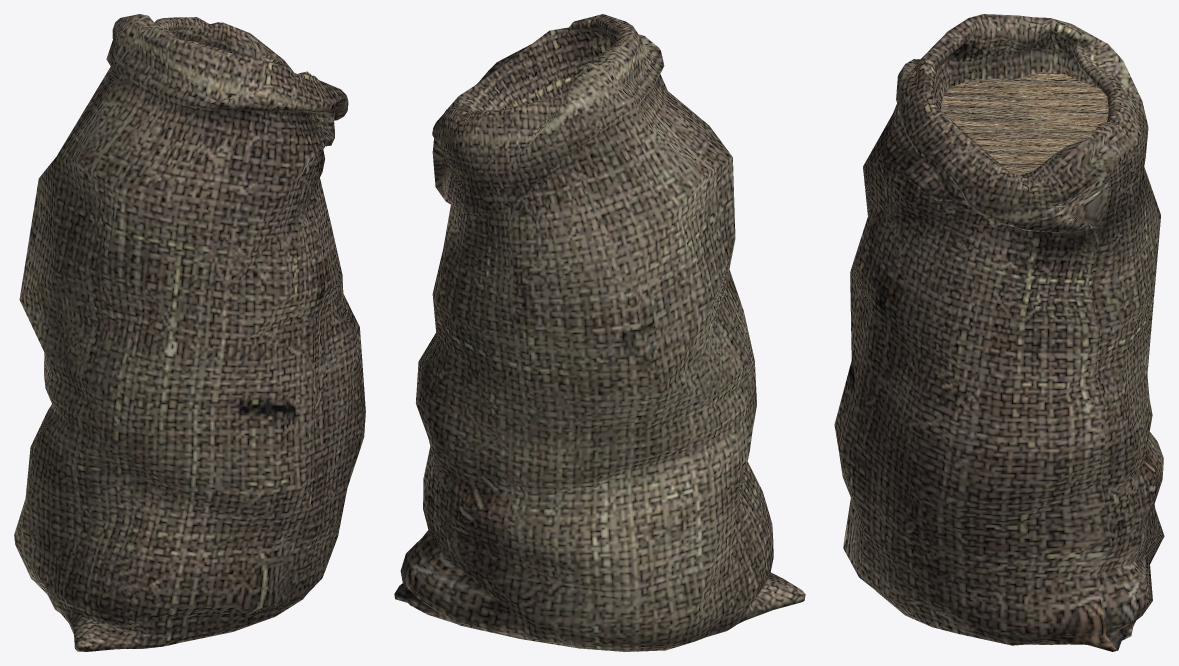
Rendered from Bag1.fbx.
3 views of the same model, side by side, from view 1: azimuth 30°, elevation 25°; view 2: azimuth 150°, elevation 25°; view 3: azimuth 270°, elevation 25° (orthographic).
Visible parts, largest first — view 1: LV_Migdal_Aset_Bag03_SM_KJS; view 2: LV_Migdal_Aset_Bag03_SM_KJS; view 3: LV_Migdal_Aset_Bag03_SM_KJS.
Boxes of the visible parts, x1,y1,x2,y2 form: LV_Migdal_Aset_Bag03_SM_KJS: [14, 14, 365, 651]; LV_Migdal_Aset_Bag03_SM_KJS: [394, 14, 805, 651]; LV_Migdal_Aset_Bag03_SM_KJS: [834, 14, 1164, 651].
Size of the model in its own units: 0.674 by 1.13 by 0.5995.
2 materials, 2 textured.
